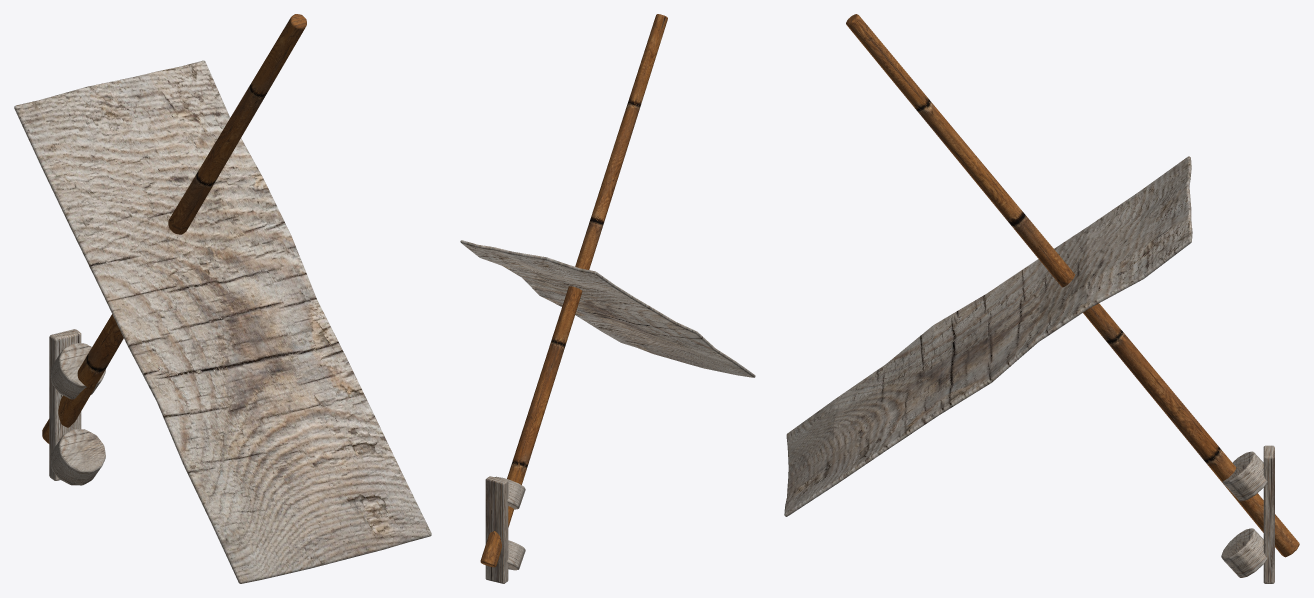
Rendered from flag-bracket-v01.glb.
The picture shows the model from 3 angles, left to right: view 1: azimuth 30°, elevation 25°; view 2: azimuth 150°, elevation 25°; view 3: azimuth 270°, elevation 25°; orthographic projection. The views are drawn at different scales.
Visible parts, largest first — view 1: flag-bracket; view 2: flag-bracket; view 3: flag-bracket.
Part boxes in pixels (<box>): flag-bracket: <box>14,14,431,583</box>; flag-bracket: <box>460,14,755,583</box>; flag-bracket: <box>784,14,1299,583</box>.
Size of the model in its own units: 0.7014 by 2.2 by 1.83.
3 materials, 3 textured.
